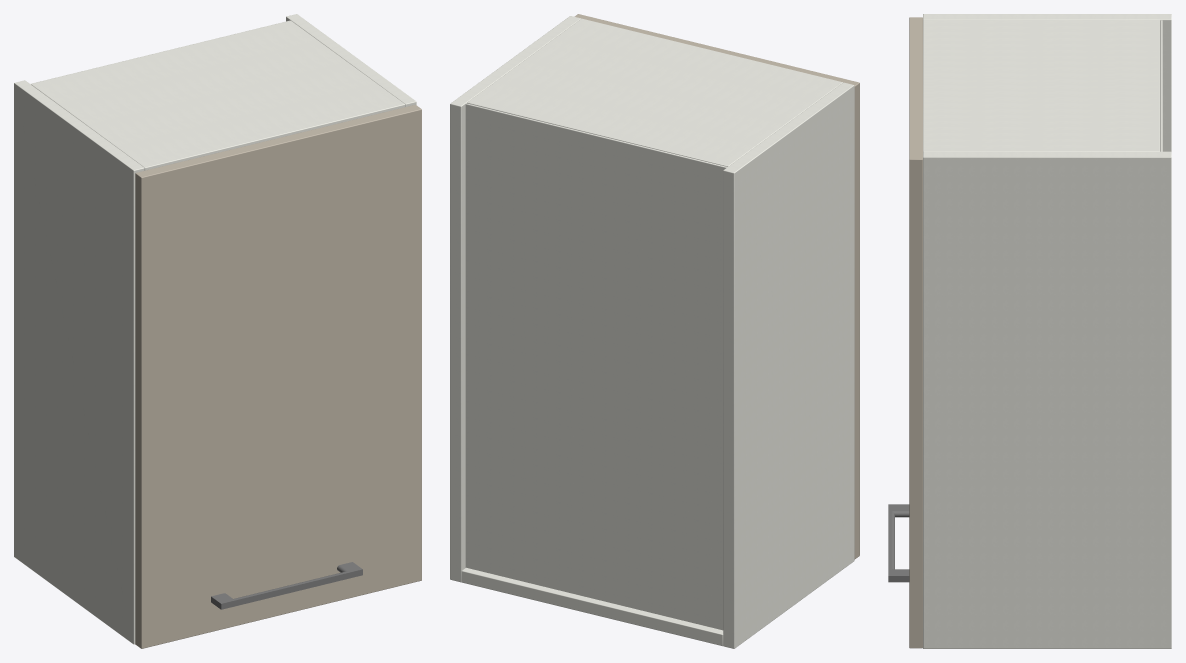
3 renders of one model, left to right at view 1: azimuth 30°, elevation 25°; view 2: azimuth 150°, elevation 25°; view 3: azimuth 270°, elevation 25°, orthographic. The views are drawn at different scales.
Visible parts, largest first — view 1: v3, STRANICA LEVA, VEZNA PREDNJA, Union, STRANICA DESNA; view 2: LEĐA, STRANICA LEVA, VEZNA PREDNJA, STRANICA DESNA, POD, v3; view 3: STRANICA DESNA, VEZNA PREDNJA, v3, STRANICA LEVA, Union.
Boxes of the visible parts, x1,y1,x2,y2 form: v3: [135, 104, 421, 648]; STRANICA LEVA: [14, 80, 144, 644]; VEZNA PREDNJA: [31, 20, 405, 170]; Union: [211, 562, 362, 609]; STRANICA DESNA: [286, 14, 416, 106]; LEĐA: [465, 103, 727, 630]; STRANICA LEVA: [723, 82, 854, 648]; VEZNA PREDNJA: [467, 18, 842, 166]; STRANICA DESNA: [450, 16, 581, 582]; POD: [461, 567, 723, 646]; v3: [574, 14, 859, 559]; STRANICA DESNA: [923, 151, 1171, 648]; VEZNA PREDNJA: [923, 19, 1160, 151]; v3: [909, 17, 922, 648]; STRANICA LEVA: [923, 14, 1171, 151]; Union: [888, 504, 909, 582].
Size of the model in its own units: 0.45 by 0.72 by 0.376.
3 materials, 2 textured.
